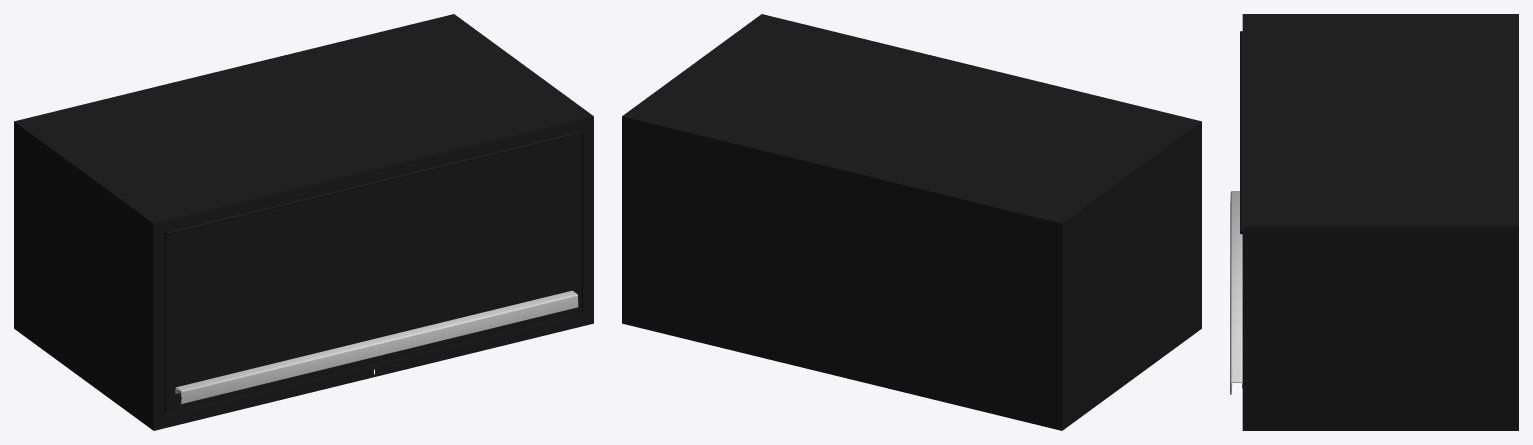
File: overHeads40.glb
The picture shows the model from 3 angles, left to right: view 1: azimuth 30°, elevation 25°; view 2: azimuth 150°, elevation 25°; view 3: azimuth 270°, elevation 25°; orthographic projection.
Visible parts, largest first — view 1: shellFp, doors, handlesFp, hingeFp; view 2: shellFp; view 3: shellFp, handlesFp, hingeFp.
Part boxes in pixels (x1,y1,x2,y2): shellFp: (14, 14, 593, 430); doors: (164, 131, 581, 415); handlesFp: (175, 290, 578, 403); hingeFp: (166, 131, 583, 235); shellFp: (622, 14, 1201, 430); shellFp: (1242, 14, 1518, 430); handlesFp: (1230, 191, 1242, 394); hingeFp: (1240, 31, 1242, 231).
Size of the model in its own units: 1.02 by 0.4572 by 0.5842.
4 materials, 1 textured.
